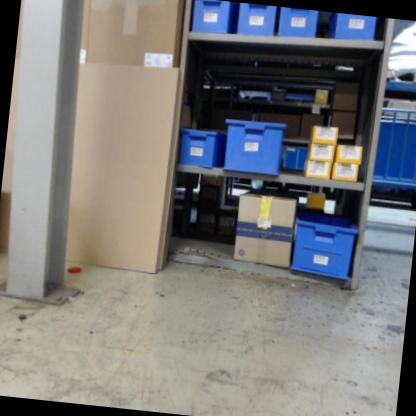small_load_carrier: (287, 211, 357, 281), (220, 116, 285, 178), (176, 127, 219, 169), (234, 2, 278, 39), (188, 0, 233, 35), (277, 7, 320, 39), (333, 14, 377, 42)
